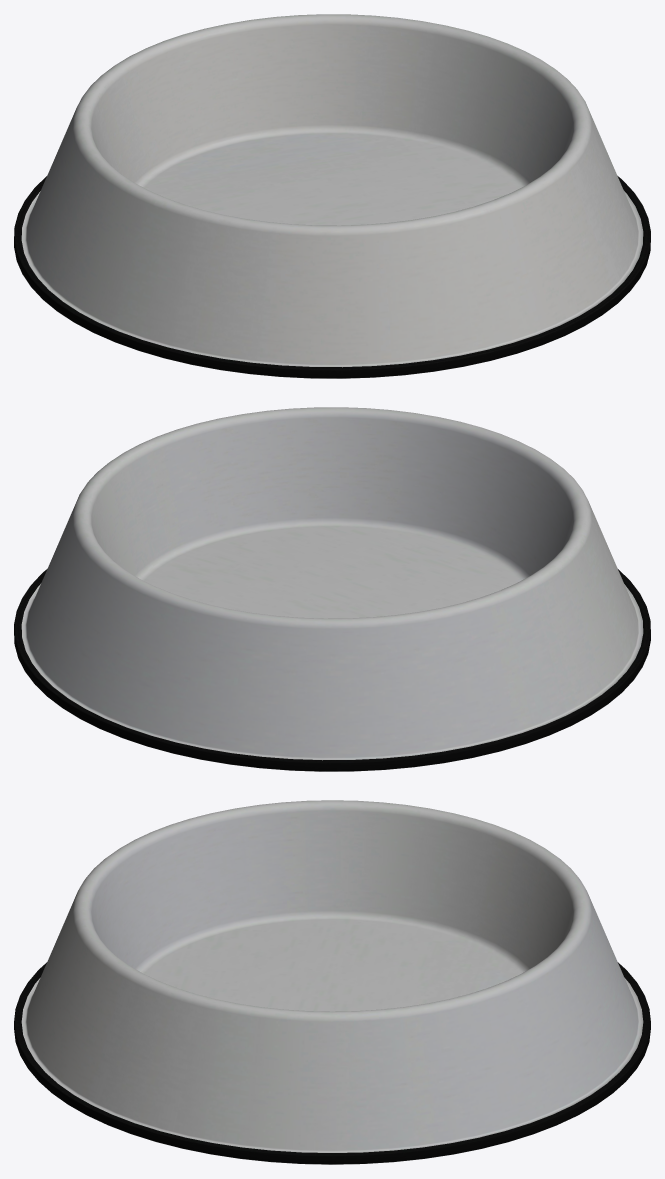
Rendered from DogBowlFBX.gltf.
The picture shows the model from 3 angles, top to bottom: view 1: azimuth 30°, elevation 25°; view 2: azimuth 150°, elevation 25°; view 3: azimuth 270°, elevation 25°; orthographic projection.
Visible parts, largest first — view 1: DogBowlFBX; view 2: DogBowlFBX; view 3: DogBowlFBX.
Part boxes in pixels (x1,y1,x2,y2): DogBowlFBX: [14, 14, 650, 378]; DogBowlFBX: [14, 407, 650, 771]; DogBowlFBX: [14, 800, 650, 1164].
Size of the model in its own units: 1.17 by 0.2516 by 1.17.
Materials: 1 (1 with a texture image).
